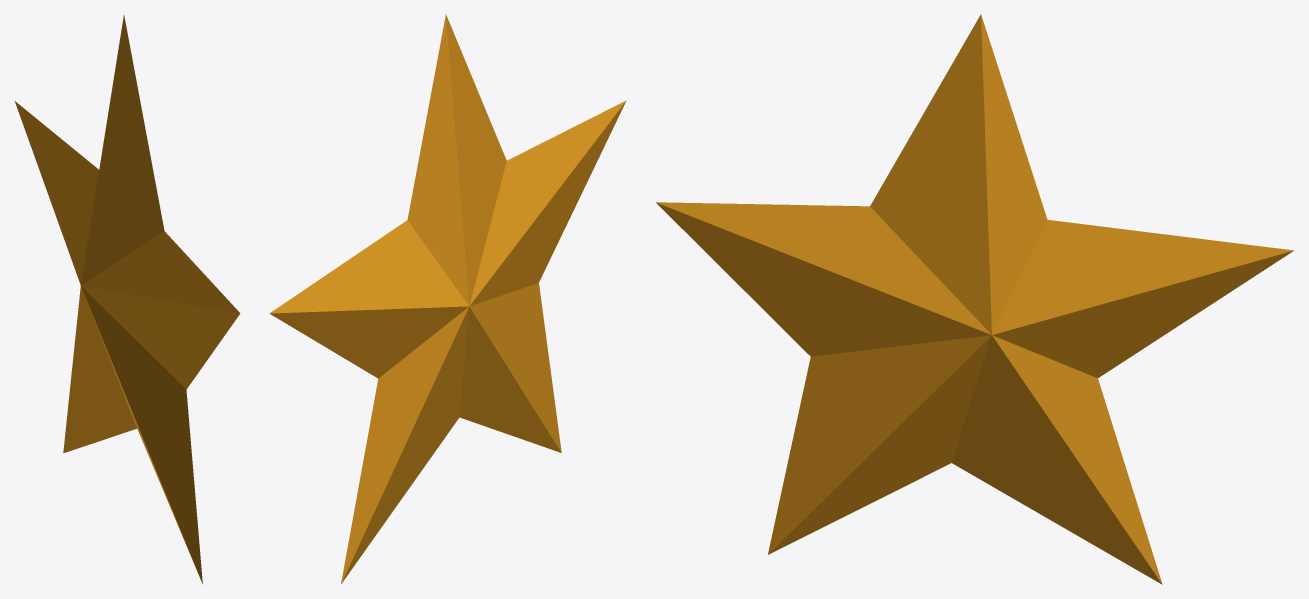
The model's file is star.gltf.
The picture shows the model from 3 angles, left to right: view 1: azimuth 30°, elevation 25°; view 2: azimuth 150°, elevation 25°; view 3: azimuth 270°, elevation 25°; orthographic projection. The views are drawn at different scales.
Parts seen in each view (by area): view 1: estrellica; view 2: estrellica; view 3: estrellica.
Part boxes in pixels (x1,y1,x2,y2): estrellica: [14, 15, 240, 584]; estrellica: [269, 14, 626, 584]; estrellica: [656, 14, 1293, 584].
Bounding box in the file's own units: 2.25 × 15.06 × 15.58.
